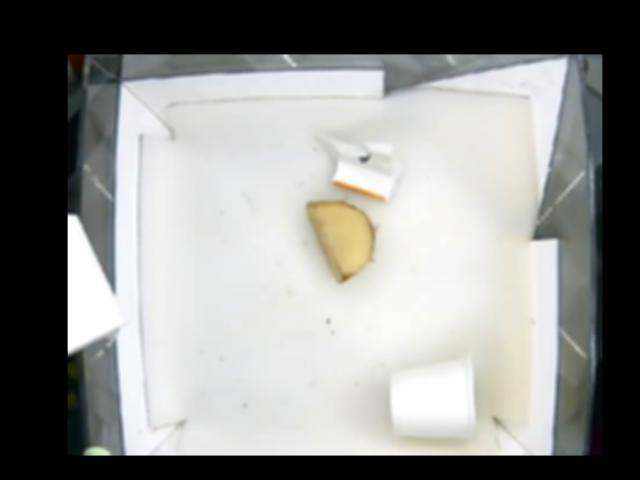China: (319, 134, 407, 203)
Cup: (390, 355, 479, 438)
Potato: (304, 199, 374, 282)
